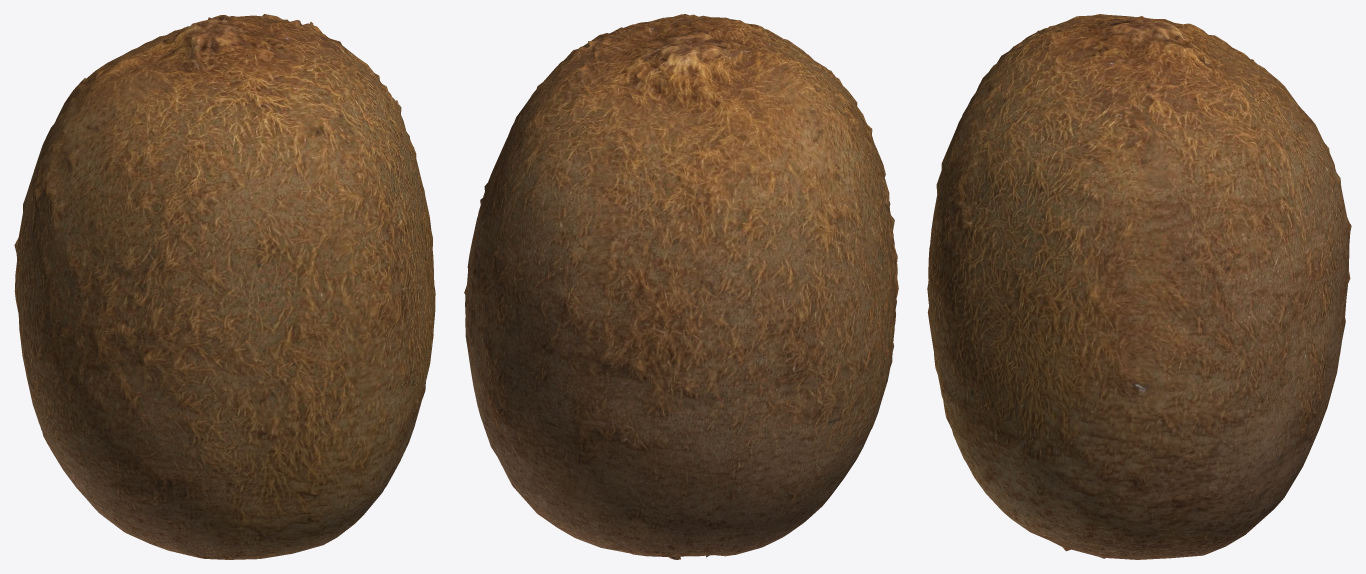
Rendered from food_kiwi_01.glb.
3 views of the same model, side by side, from view 1: azimuth 30°, elevation 25°; view 2: azimuth 150°, elevation 25°; view 3: azimuth 270°, elevation 25° (orthographic).
Parts seen in each view (by area): view 1: food_kiwi_01; view 2: food_kiwi_01; view 3: food_kiwi_01.
Boxes of the visible parts, x1,y1,x2,y2 form: food_kiwi_01: (14, 14, 435, 559); food_kiwi_01: (464, 14, 898, 559); food_kiwi_01: (927, 14, 1351, 559).
Bounding box in the file's own units: 0.0695 × 0.0901 × 0.0686.
Materials: 1 (1 with a texture image).
